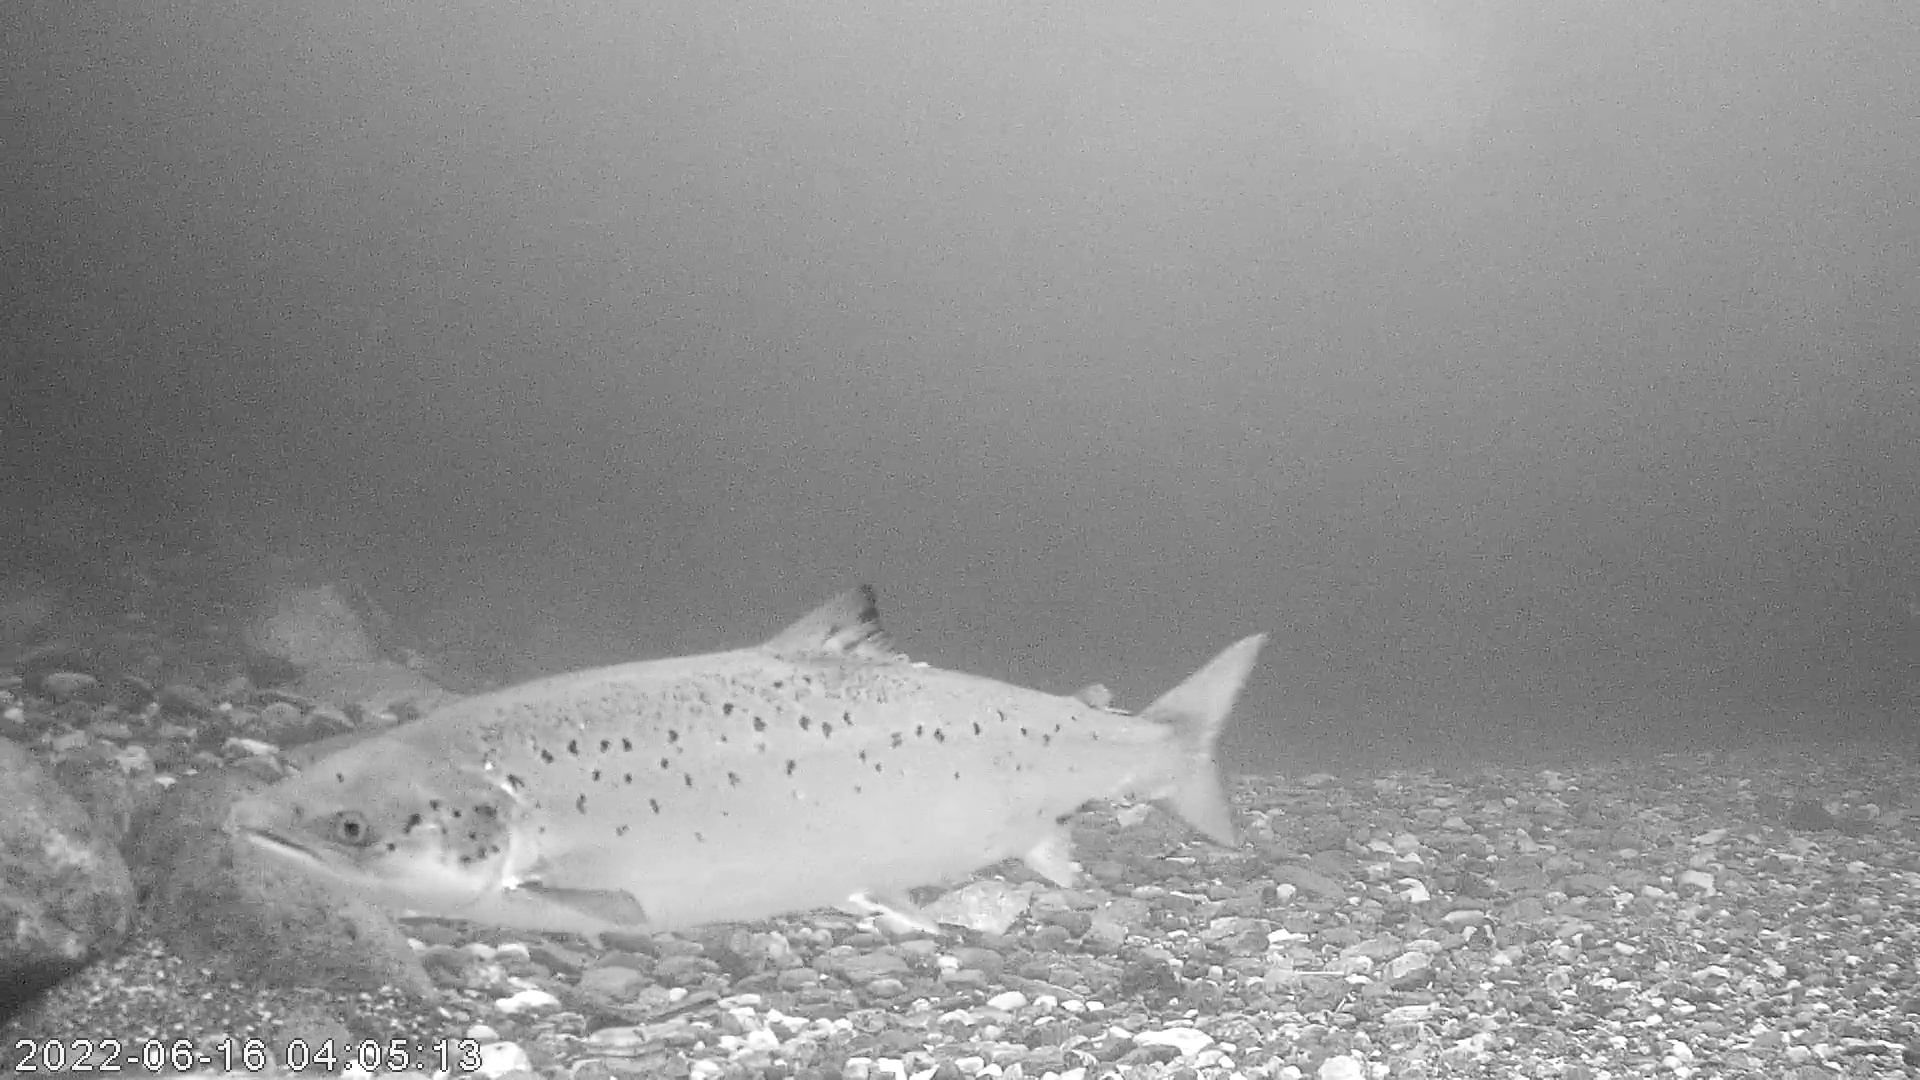salmon: (223, 580, 1273, 940)
